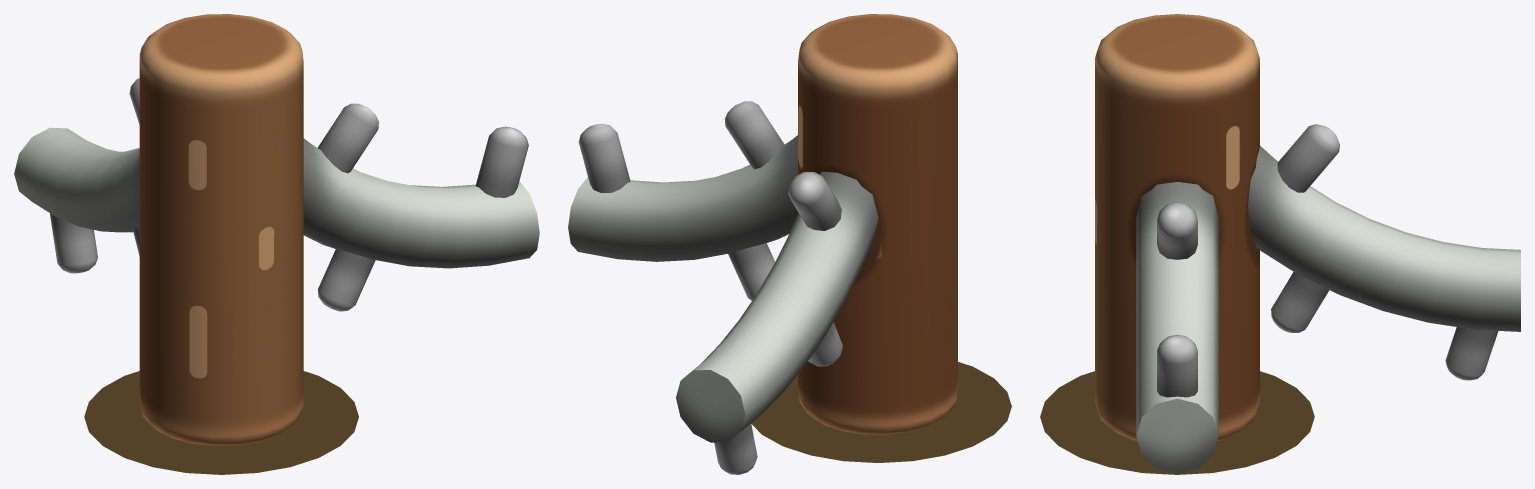
File: FenceC_CorSide.fbx
3 renders of one model, left to right at view 1: azimuth 30°, elevation 25°; view 2: azimuth 150°, elevation 25°; view 3: azimuth 270°, elevation 25°, orthographic. The views are drawn at different scales.
Visible parts, largest first — view 1: fenceWood, LLine, fenceC2side_SDW, RLine1; view 2: fenceWood, RLine1, LLine, fenceC2side_SDW; view 3: fenceWood, RLine1, LLine, fenceC2side_SDW.
Part boxes in pixels (x1=…): fenceWood: x1=139, y1=14, x2=303, y2=445; LLine: x1=303, y1=103, x2=539, y2=311; fenceC2side_SDW: x1=84, y1=371, x2=358, y2=474; RLine1: x1=14, y1=78, x2=139, y2=273; fenceWood: x1=798, y1=14, x2=957, y2=434; RLine1: x1=676, y1=171, x2=878, y2=474; LLine: x1=568, y1=101, x2=797, y2=300; fenceC2side_SDW: x1=751, y1=362, x2=1011, y2=462; fenceWood: x1=1095, y1=14, x2=1259, y2=440; RLine1: x1=1248, y1=124, x2=1520, y2=380; LLine: x1=1136, y1=182, x2=1218, y2=473; fenceC2side_SDW: x1=1040, y1=371, x2=1314, y2=474.
Size of the model in its own units: 71.15 by 60 by 70.
2 materials, 1 textured.
